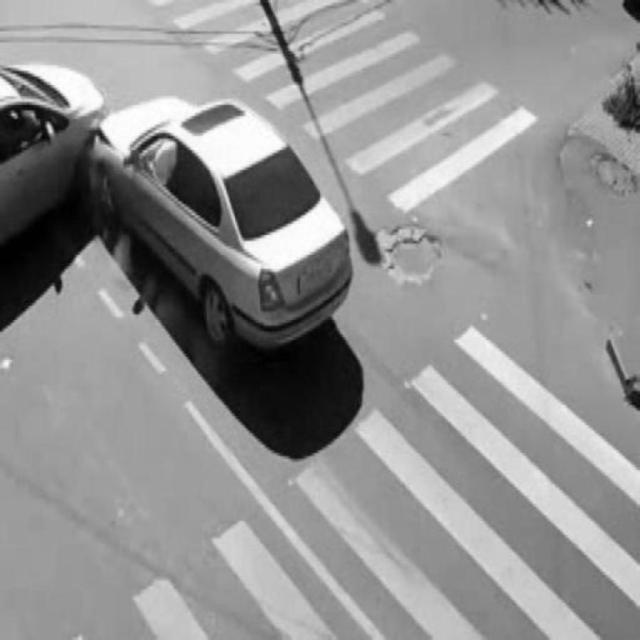accident: (2, 62, 356, 346)
